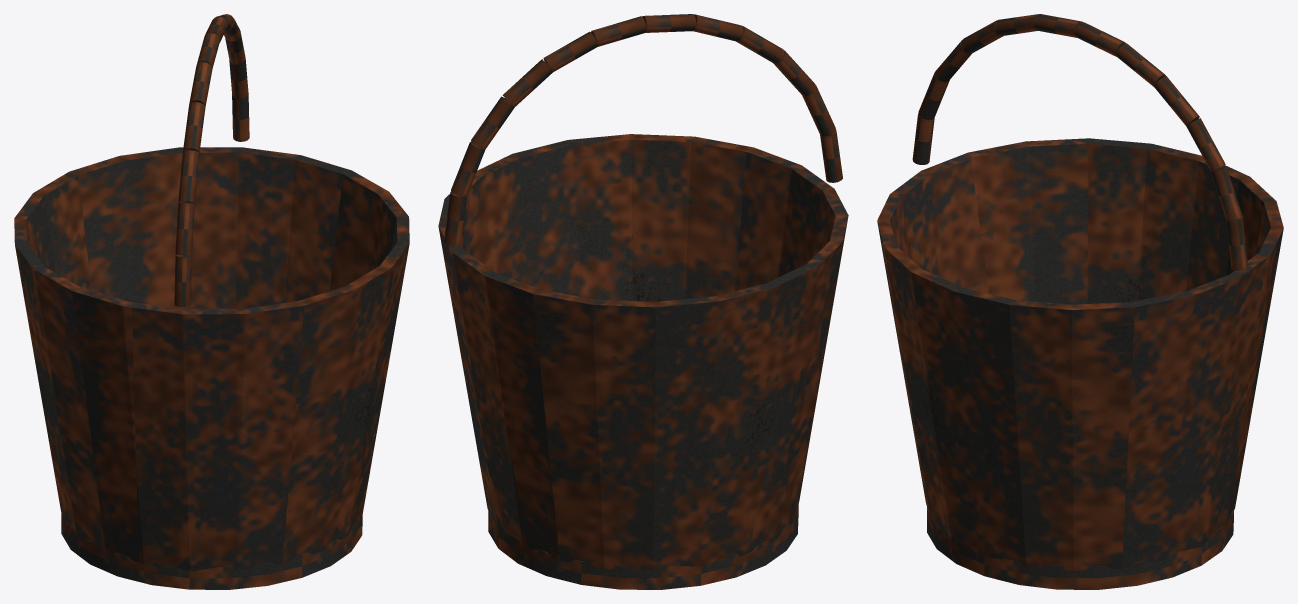
Rendered from SM_OpenMaintenanceBucket_09ae6bae1a.fbx.
The picture shows the model from 3 angles, left to right: view 1: azimuth 30°, elevation 25°; view 2: azimuth 150°, elevation 25°; view 3: azimuth 270°, elevation 25°; orthographic projection. The views are drawn at different scales.
Visible parts, largest first — view 1: SM_OpenMaintenanceBucket_09ae6bae1a; view 2: SM_OpenMaintenanceBucket_09ae6bae1a; view 3: SM_OpenMaintenanceBucket_09ae6bae1a.
Boxes of the visible parts, x1,y1,x2,y2 form: SM_OpenMaintenanceBucket_09ae6bae1a: (14,14,409,589); SM_OpenMaintenanceBucket_09ae6bae1a: (438,14,848,589); SM_OpenMaintenanceBucket_09ae6bae1a: (877,14,1283,589).
Size of what is drawn, in the model's own units: 37.96 by 37.96 by 51.79.
Materials: 2 (1 with a texture image).
